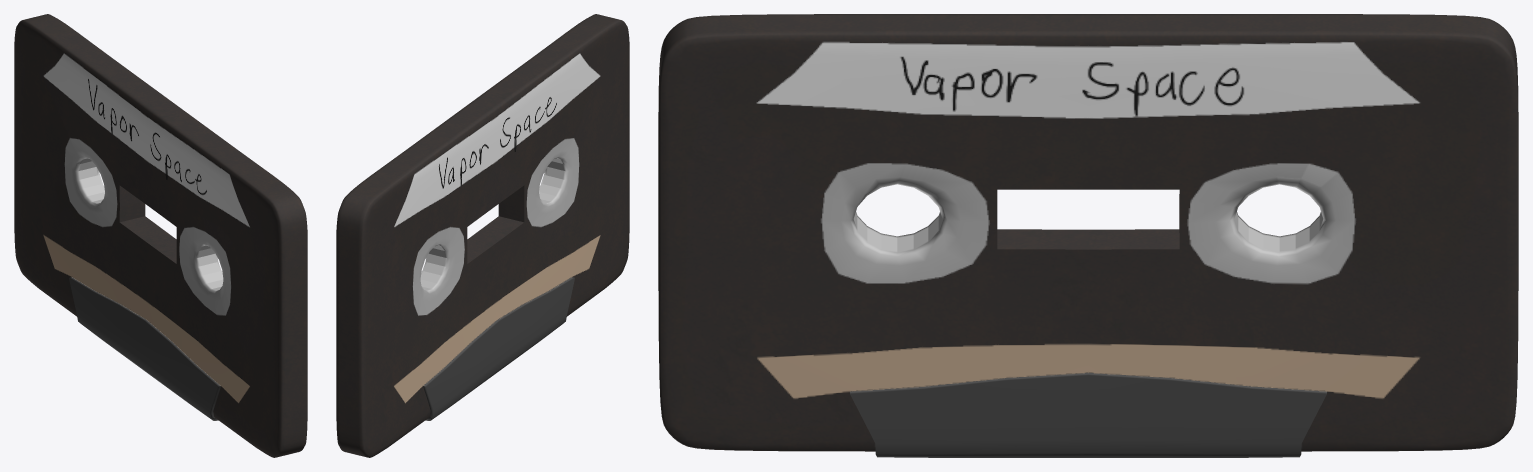
File: cassette_3.fbx
The picture shows the model from 3 angles, left to right: view 1: azimuth 30°, elevation 25°; view 2: azimuth 150°, elevation 25°; view 3: azimuth 270°, elevation 25°; orthographic projection. The views are drawn at different scales.
Visible parts, largest first — view 1: CASSETTE:polySurface1; view 2: CASSETTE:polySurface1; view 3: CASSETTE:polySurface1.
Boxes of the visible parts, left/top/right/bottom form: CASSETTE:polySurface1: left=14, top=14, right=307, bottom=457; CASSETTE:polySurface1: left=336, top=14, right=629, bottom=457; CASSETTE:polySurface1: left=658, top=14, right=1518, bottom=457.
Size of the model in its own units: 0.9177 by 6.56 by 12.04.
Materials: 1 (1 with a texture image).
